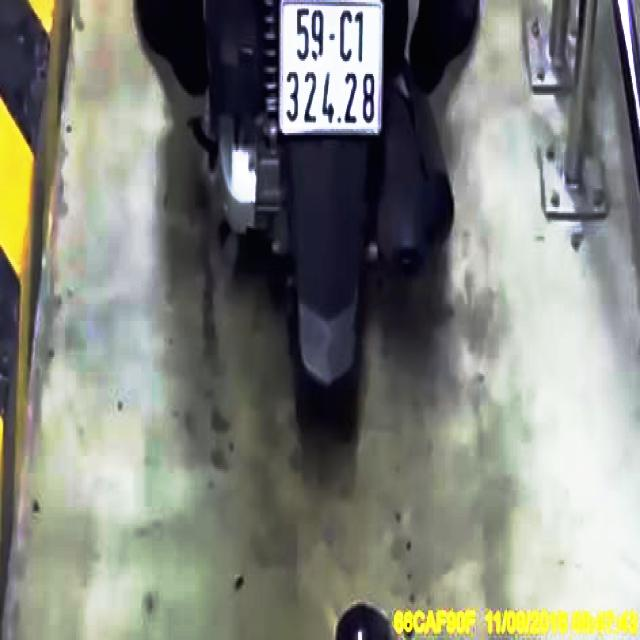license_plate: (281, 1, 386, 136)
